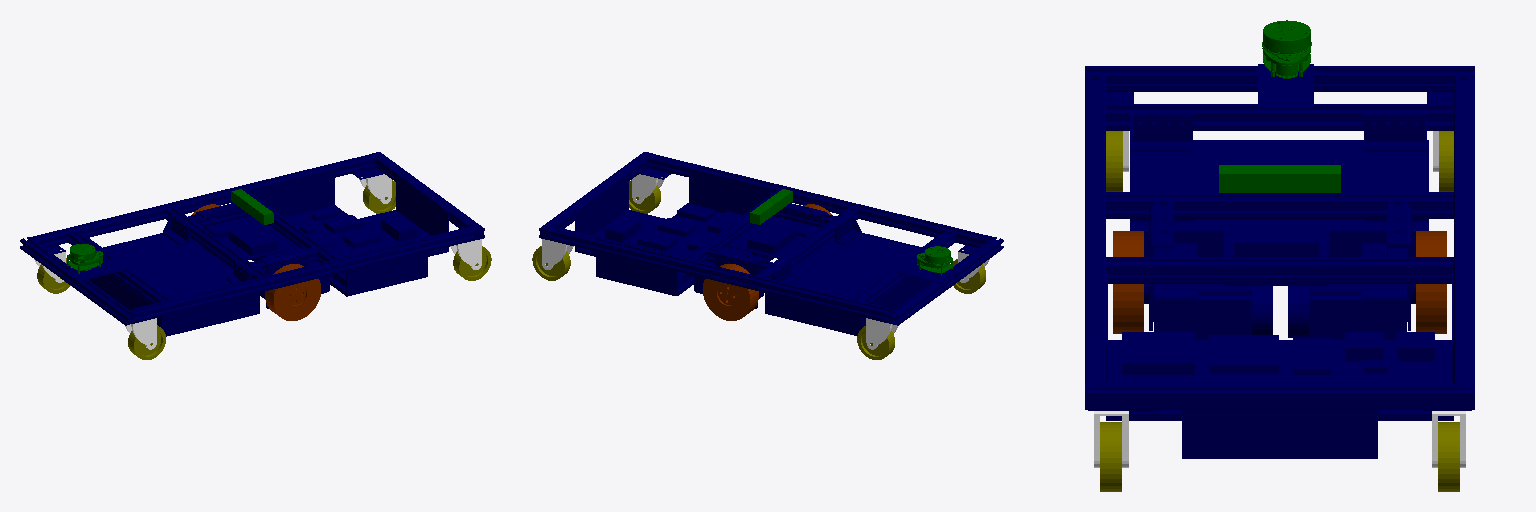
The robot description file, URDF, robot "amr_8":
<?xml version="1.0" encoding="utf-8"?>
<!-- This URDF was automatically created by SolidWorks to URDF Exporter! Originally created by Stephen Brawner ([email redacted]) 
     Commit Version: 1.6.0-1-g15f4949  Build Version: 1.6.7594.29634
     For more information, please see http://wiki.ros.org/sw_urdf_exporter -->
<robot
  name="amr_8">

  <!--===== Defining all colours here =====-->
  <material name="Orange">
    <color rgba="0.5 0.2 0.0 1" />
  </material>
  <material name="Yellow">
    <color rgba="0.5 0.5 0.0 1" />
  </material>
  <material name="Red">
    <color rgba="0.5 0.0 0.0 1" />
  </material>
  <material name="Blue">
    <color rgba="0.0 0.0 0.4 1" />
  </material>
  <material name="Green">
    <color rgba="0.0 0.4 0.0 1" />
  </material>
  <material name="White">
    <color rgba="1 1 1 1" />
  </material>

  <!--BASE FOOTPRINT-->
  <link name="base_footprint" />

  <link
    name="base">
    <inertial>
      <origin
        xyz="-0.064059 -0.0022909 -0.049505"
        rpy="0 0 0" />
      <mass
        value="19.525" />
      <inertia
        ixx="0.29993"
        ixy="-0.0014461"
        ixz="-0.00022725"
        iyy="0.22651"
        iyz="-0.00039565"
        izz="0.49465" />
    </inertial>
    <visual>
      <origin
        xyz="0 0 0"
        rpy="0 0 0" />
      <geometry>
        <mesh
          filename="package://amr_8/meshes/base.STL" />
      </geometry>
      <material
        name="Blue">
      </material>
    </visual>
    <collision>
      <origin
        xyz="0 0 0"
        rpy="0 0 0" />
      <geometry>
        <mesh
          filename="package://amr_8/meshes/base.STL" />
      </geometry>
    </collision>
  </link>

  <!--========================================== BASE JOINT ==========================================-->
  <joint name="base_joint" type="fixed">
    <origin xyz="0 0 0" rpy="0 0 0" />
    <parent link="base_footprint" />
    <child link="base" />
    <axis xyz="0 0 0" />
  </joint>

  <link
    name="casterhub1">
    <inertial>
      <origin
        xyz="0.021124 1.1393E-05 -0.037006"
        rpy="0 0 0" />
      <mass
        value="0.096702" />
      <inertia
        ixx="9.6191E-05"
        ixy="1.8378E-09"
        ixz="1.4686E-05"
        iyy="9.5049E-05"
        iyz="4.5372E-08"
        izz="7.6453E-05" />
    </inertial>
    <visual>
      <origin
        xyz="0 0 0"
        rpy="0 0 0" />
      <geometry>
        <mesh
          filename="package://amr_8/meshes/casterhub1.STL" />
      </geometry>
      <material
        name="White">
      </material>
    </visual>
    <collision>
      <origin
        xyz="0 0 0"
        rpy="0 0 0" />
      <geometry>
        <mesh
          filename="package://amr_8/meshes/casterhub1.STL" />
      </geometry>
    </collision>
  </link>
  <joint
    name="casterhub1joint"
    type="continuous">
    <origin
      xyz="0.50163 0.24239 0"
      rpy="0 0 0" />
    <parent
      link="base" />
    <child
      link="casterhub1" />
    <axis
      xyz="0 0 1" />
  </joint>
  <link
    name="casterwheel1">
    <inertial>
      <origin
        xyz="-6.8018E-10 1.0217E-13 -3.9451E-10"
        rpy="0 0 0" />
      <mass
        value="0.17494" />
      <inertia
        ixx="0.00013656"
        ixy="-1.5509E-28"
        ixz="-3.4686E-14"
        iyy="0.00025252"
        iyz="2.7903E-20"
        izz="0.00013656" />
    </inertial>
    <visual>
      <origin
        xyz="0 0 0"
        rpy="0 0 0" />
      <geometry>
        <mesh
          filename="package://amr_8/meshes/casterwheel1.STL" />
      </geometry>
      <material
        name="Yellow">
      </material>
    </visual>
    <collision>
      <origin
        xyz="0 0 0"
        rpy="0 0 0" />
      <geometry>
        <mesh
          filename="package://amr_8/meshes/casterwheel1.STL" />
      </geometry>
      
      <surface>
        <friction>
          <ode>
            <mu>1</mu>
            <mu2>1</mu2>
          </ode>
        </friction>
      </surface>
    
    </collision>
  </link>
  <joint
    name="casterwheel1joint"
    type="continuous">
    <origin
      xyz="0.037 0 -0.078"
      rpy="0 0 0" />
    <parent
      link="casterhub1" />
    <child
      link="casterwheel1" />
    <axis
      xyz="0 1 0" />
  </joint>
  <link
    name="casterhub2">
    <inertial>
      <origin
        xyz="0.021124 1.1393E-05 -0.037006"
        rpy="0 0 0" />
      <mass
        value="0.096702" />
      <inertia
        ixx="9.6191E-05"
        ixy="1.8378E-09"
        ixz="1.4686E-05"
        iyy="9.5049E-05"
        iyz="4.5372E-08"
        izz="7.6453E-05" />
    </inertial>
    <visual>
      <origin
        xyz="0 0 0"
        rpy="0 0 0" />
      <geometry>
        <mesh
          filename="package://amr_8/meshes/casterhub2.STL" />
      </geometry>
      <material
        name="White">
      </material>
    </visual>
    <collision>
      <origin
        xyz="0 0 0"
        rpy="0 0 0" />
      <geometry>
        <mesh
          filename="package://amr_8/meshes/casterhub2.STL" />
      </geometry>
    </collision>
  </link>
  <joint
    name="casterhub2joint"
    type="continuous">
    <origin
      xyz="-0.50172 0.24406 0"
      rpy="0 0 0" />
    <parent
      link="base" />
    <child
      link="casterhub2" />
    <axis
      xyz="0 0 1" />
  </joint>
  <link
    name="casterwheel2">
    <inertial>
      <origin
        xyz="-6.8013E-10 -5.5511E-17 -3.9253E-10"
        rpy="0 0 0" />
      <mass
        value="0.17494" />
      <inertia
        ixx="0.00013656"
        ixy="2.5266E-27"
        ixz="-3.4686E-14"
        iyy="0.00025252"
        iyz="2.7903E-20"
        izz="0.00013656" />
    </inertial>
    <visual>
      <origin
        xyz="0 0 0"
        rpy="0 0 0" />
      <geometry>
        <mesh
          filename="package://amr_8/meshes/casterwheel2.STL" />
      </geometry>
      <material
        name="Yellow">
      </material>
    </visual>
    <collision>
      <origin
        xyz="0 0 0"
        rpy="0 0 0" />
      <geometry>
        <mesh
          filename="package://amr_8/meshes/casterwheel2.STL" />
      </geometry>
      
      <surface>
        <friction>
          <ode>
            <mu>1</mu>
            <mu2>1</mu2>
          </ode>
        </friction>
      </surface>
    
    </collision>
  </link>
  <joint
    name="casterwheel2joint"
    type="continuous">
    <origin
      xyz="0.037 0 -0.078"
      rpy="0 0 0" />
    <parent
      link="casterhub2" />
    <child
      link="casterwheel2" />
    <axis
      xyz="0 1 0" />
  </joint>
  <link
    name="casterhub3">
    <inertial>
      <origin
        xyz="0.021124 1.1393E-05 -0.037006"
        rpy="0 0 0" />
      <mass
        value="0.096702" />
      <inertia
        ixx="9.6191E-05"
        ixy="1.8378E-09"
        ixz="1.4686E-05"
        iyy="9.5049E-05"
        iyz="4.5372E-08"
        izz="7.6453E-05" />
    </inertial>
    <visual>
      <origin
        xyz="0 0 0"
        rpy="0 0 0" />
      <geometry>
        <mesh
          filename="package://amr_8/meshes/casterhub3.STL" />
      </geometry>
      <material
        name="White">
      </material>
    </visual>
    <collision>
      <origin
        xyz="0 0 0"
        rpy="0 0 0" />
      <geometry>
        <mesh
          filename="package://amr_8/meshes/casterhub3.STL" />
      </geometry>
    </collision>
  </link>
  <joint
    name="casterhub3joint"
    type="continuous">
    <origin
      xyz="0.50163 -0.24209 0"
      rpy="0 0 0" />
    <parent
      link="base" />
    <child
      link="casterhub3" />
    <axis
      xyz="0 0 1" />
  </joint>
  <link
    name="casterwheel3">
    <inertial>
      <origin
        xyz="-6.8013E-10 5.5511E-17 -3.9258E-10"
        rpy="0 0 0" />
      <mass
        value="0.17494" />
      <inertia
        ixx="0.00013656"
        ixy="-2.0304E-25"
        ixz="-3.4686E-14"
        iyy="0.00025252"
        iyz="2.6103E-20"
        izz="0.00013656" />
    </inertial>
    <visual>
      <origin
        xyz="0 0 0"
        rpy="0 0 0" />
      <geometry>
        <mesh
          filename="package://amr_8/meshes/casterwheel3.STL" />
      </geometry>
      <material
        name="Yellow">
      </material>
    </visual>
    <collision>
      <origin
        xyz="0 0 0"
        rpy="0 0 0" />
      <geometry>
        <mesh
          filename="package://amr_8/meshes/casterwheel3.STL" />
      </geometry>
      
      <surface>
        <friction>
          <ode>
            <mu>1</mu>
            <mu2>1</mu2>
          </ode>
        </friction>
      </surface>
    
    </collision>
  </link>
  <joint
    name="casterwheel3joint"
    type="continuous">
    <origin
      xyz="0.037 0 -0.078"
      rpy="0 0 0" />
    <parent
      link="casterhub3" />
    <child
      link="casterwheel3" />
    <axis
      xyz="0 1 0" />
  </joint>
  <link
    name="casterhub4">
    <inertial>
      <origin
        xyz="0.021124 1.1393E-05 -0.037006"
        rpy="0 0 0" />
      <mass
        value="0.096702" />
      <inertia
        ixx="9.6191E-05"
        ixy="1.8378E-09"
        ixz="1.4686E-05"
        iyy="9.5049E-05"
        iyz="4.5372E-08"
        izz="7.6453E-05" />
    </inertial>
    <visual>
      <origin
        xyz="0 0 0"
        rpy="0 0 0" />
      <geometry>
        <mesh
          filename="package://amr_8/meshes/casterhub4.STL" />
      </geometry>
      <material
        name="White">
      </material>
    </visual>
    <collision>
      <origin
        xyz="0 0 0"
        rpy="0 0 0" />
      <geometry>
        <mesh
          filename="package://amr_8/meshes/casterhub4.STL" />
      </geometry>
    </collision>
  </link>
  <joint
    name="casterhub4joint"
    type="continuous">
    <origin
      xyz="-0.50233 -0.2419 0"
      rpy="0 0 0" />
    <parent
      link="base" />
    <child
      link="casterhub4" />
    <axis
      xyz="0 0 1" />
  </joint>
  <link
    name="casterwheel4">
    <inertial>
      <origin
        xyz="-6.8013E-10 -2.7756E-17 -3.9256E-10"
        rpy="0 0 0" />
      <mass
        value="0.17494" />
      <inertia
        ixx="0.00013656"
        ixy="-1.6203E-28"
        ixz="-3.4686E-14"
        iyy="0.00025252"
        iyz="2.7903E-20"
        izz="0.00013656" />
    </inertial>
    <visual>
      <origin
        xyz="0 0 0"
        rpy="0 0 0" />
      <geometry>
        <mesh
          filename="package://amr_8/meshes/casterwheel4.STL" />
      </geometry>
      <material
        name="Yellow">
      </material>
    </visual>
    <collision>
      <origin
        xyz="0 0 0"
        rpy="0 0 0" />
      <geometry>
        <mesh
          filename="package://amr_8/meshes/casterwheel4.STL" />
      </geometry>
      
      <surface>
        <friction>
          <ode>
            <mu>1</mu>
            <mu2>1</mu2>
          </ode>
        </friction>
      </surface>
    
    </collision>
  </link>
  <joint
    name="casterwheel4joint"
    type="continuous">
    <origin
      xyz="0.037 0 -0.078"
      rpy="0 0 0" />
    <parent
      link="casterhub4" />
    <child
      link="casterwheel4" />
    <axis
      xyz="0 1 0" />
  </joint>



  <link
    name="left_drive_wheel">
    <inertial>
      <origin
        xyz="3.724E-08 -0.02302 -6.1415E-08"
        rpy="0 0 0" />
      <mass
        value="0.70556" />
      <inertia
        ixx="0.0011582"
        ixy="4.4879E-10"
        ixz="1.1745E-10"
        iyy="0.002089"
        iyz="-7.4013E-10"
        izz="0.0011582" />
    </inertial>
    <visual>
      <origin
        xyz="0 0 0"
        rpy="0 0 0" />
      <geometry>
        <mesh
          filename="package://amr_8/meshes/left_drive_wheel.STL" />
      </geometry>
      <material
        name="Orange">
      </material>
    </visual>
    <collision>
      <origin
        xyz="0 0 0"
        rpy="0 0 0" />
      <geometry>
        <mesh
          filename="package://amr_8/meshes/left_drive_wheel.STL" />
      </geometry>
      
      <surface>
        <friction>
          <ode>
            <mu>1</mu>
            <mu2>1</mu2>
          </ode>
        </friction>
      </surface>
    
    </collision>
  </link>


  <joint
    name="left_drive_wheel_joint"
    type="continuous">
    <origin
      xyz="-0.00021568 -0.195 -0.0539"
      rpy="0 0 0" />
    <!--origin
      xyz="-0.00021568 -0.195 -0.053698"
      rpy="0 0 0" /-->
    <parent
      link="base" />
    <child
      link="left_drive_wheel" />
    <axis
      xyz="0 -1 0" />
  </joint>


  <link
    name="right_drive_wheel">
    <inertial>
      <origin
        xyz="3.724E-08 0.02302 6.1415E-08"
        rpy="0 0 0" />
      <mass
        value="0.70556" />
      <inertia
        ixx="0.0011582"
        ixy="-4.4879E-10"
        ixz="-1.1745E-10"
        iyy="0.002089"
        iyz="-7.4013E-10"
        izz="0.0011582" />
    </inertial>
    <visual>
      <origin
        xyz="0 0 0"
        rpy="0 0 0" />
      <geometry>
        <mesh
          filename="package://amr_8/meshes/right_drive_wheel.STL" />
      </geometry>
      <material
        name="Orange">
      </material>
    </visual>
    <collision>
      <origin
        xyz="0 0 0"
        rpy="0 0 0" />
      <geometry>
        <mesh
          filename="package://amr_8/meshes/right_drive_wheel.STL" />
      </geometry>
      
      <surface>
        <friction>
          <ode>
            <mu>1</mu>
            <mu2>1</mu2>
          </ode>
        </friction>
      </surface>
    
    </collision>
  </link>


  <joint
    name="right_drive_wheel_joint"
    type="continuous">
    <origin
      xyz="-0.00021568 0.195 -0.0539"
      rpy="0 0 0" />
    <!--origin
      xyz="-0.00021568 0.195 -0.053698"
      rpy="0 0 0" /-->
    <parent
      link="base" />
    <child
      link="right_drive_wheel" />
    <axis
      xyz="0 -1 0" />
  </joint>



  <link
    name="lidar">
    <inertial>
      <origin
        xyz="-0.02994 0.019468 0.024735"
        rpy="0 0 0" />
      <mass
        value="0.073085" />
      <inertia
        ixx="1.9581E-05"
        ixy="-1.0393E-07"
        ixz="-4.2839E-07"
        iyy="2.4125E-05"
        iyz="9.4271E-09"
        izz="4.1418E-05" />
    </inertial>
    <visual>
      <origin
        xyz="0 -0.02 0"
        rpy="0 0 0" />
      <geometry>
        <mesh
          filename="package://amr_8/meshes/lidar.STL" />
      </geometry>
      <material
        name="Green">
      </material>
    </visual>
    <collision>
      <origin
        xyz="0 0 0"
        rpy="0 0 0" />
      <geometry>
        <mesh
          filename="package://amr_8/meshes/lidar.STL" />
      </geometry>
    </collision>
  </link>
  <joint
    name="lidarjoint"
    type="fixed">
    <origin
      xyz="-0.47725 0.01 0.05"
      rpy="0 0 0" />
    <!--origin
      xyz="-0.47725 -0.011631 0.034"
      rpy="0 0 0" /-->
    <parent
      link="base" />
    <child
      link="lidar" />
    <axis
      xyz="0 0 0" />
  </joint>

        <!-- Camera Center -->
        <joint name="zed_camera_center_joint" type="fixed">
	  <origin
	    xyz="0 0 0.11"
	    rpy="0 0 3.14" />
            <parent link="base"/>
            <child link="zed_camera_center"/>
        </joint>

        <link name="zed_camera_center">
            <visual>
                <origin xyz="0 0 0" rpy="0 0 1.57"/>
                <geometry>
                    <!--mesh filename="file://$(find sd_truck_description)/meshes/zed2.stl"/-->
                    <box size="0.175 0.030 0.030"/>
                </geometry>
                <material name="Green" />
            </visual>
            <collision>
                <origin xyz="0 0 0" rpy="0 0 0"/>
                <geometry>
                    <!--mesh filename="file://$(find sd_truck_description)/meshes/zed2.stl"/-->
                    <box size="0.0175 0.0030 0.0030"/>
                </geometry>
            </collision>
            <inertial>
                <mass value="1e-5" />
                <origin xyz="0 0 0" rpy="0 0 0"/>
                <inertia ixx="1e-6" ixy="0" ixz="0" iyy="1e-6" iyz="0" izz="1e-6" />
            </inertial>
        </link>

    <!-- Left Camera -->
        <joint name="zed_left_camera_joint" type="fixed">
            <parent link="zed_camera_center"/>
            <child link="zed_left_camera_frame"/>
            <origin xyz="0 0.06 0" rpy="0 0 0" />
        </joint>

        <link name="zed_left_camera_frame" />

        <joint name="zed_left_camera_optical_joint" type="fixed">
            <origin xyz="0 0 0" rpy="0 0 0" />
            <parent link="zed_left_camera_frame" />
            <child link="zed_left_camera_link_optical" />
        </joint>
        <link name="zed_left_camera_link_optical" />

    <!-- Right Camera -->
        <joint name="zed_right_camera_joint" type="fixed">
            <parent link="zed_camera_center"/>
            <child link="zed_right_camera_frame"/>
            <origin xyz="0 -0.06 0" rpy="0 0 0" />
        </joint>

        <link name="zed_right_camera_frame" />

        <joint name="zed_right_camera_optical_joint" type="fixed">
            <origin xyz="0 0 0" rpy="0 0 0" />
            <parent link="zed_right_camera_frame" />
            <child link="zed_right_camera_link_optical" />
        </joint>

        <link name="zed_right_camera_link_optical" />








  <!--========================================== GAZEBO TAGS ==========================================-->
  <gazebo reference="base">
    <material>Gazebo/Blue</material>
  </gazebo>

  <gazebo reference="left_drive_wheel">
    <material>Gazebo/Orange</material>
  </gazebo>

  <gazebo reference="right_drive_wheel">
    <material>Gazebo/Orange</material>
  </gazebo>

  <gazebo reference="casterwheel1">
    <material>Gazebo/Yellow</material>
  </gazebo>

  <gazebo reference="casterwheel2">
    <material>Gazebo/Yellow</material>
  </gazebo>

  <gazebo reference="casterwheel3">
    <material>Gazebo/Yellow</material>
  </gazebo>
  
  <gazebo reference="casterwheel4">
    <material>Gazebo/Yellow</material>
  </gazebo>

  <gazebo reference="lidar">
    <material>Gazebo/Green</material>
  </gazebo>

  <gazebo reference="zed_camera_center">
    <material>Gazebo/Green</material>
  </gazebo>


  <!--========================================== DIFF DRIVE PLUGIN - GAZEBO ==========================================-->

	<gazebo>
	  <plugin name="differential_drive_controller" filename="libgazebo_ros_diff_drive.so">
		<!-- Plugin update rate in Hz -->
		<updateRate>10</updateRate>
		<!-- Name of left joint, defaults to `left_joint` -->
		<leftJoint>left_drive_wheel_joint</leftJoint>
		<!-- Name of right joint, defaults to `right_joint` -->
		<rightJoint>right_drive_wheel_joint</rightJoint>
		<!-- The distance from the center of one wheel to the other, in meters, defaults to 0.34 m -->
		<wheelSeparation>0.421</wheelSeparation>
		<!-- Diameter of the wheels, in meters, defaults to 0.15 m -->
		<wheelDiameter>0.15</wheelDiameter>
		<!-- Wheel acceleration, in rad/s^2, defaults to 0.0 rad/s^2 -->
		<wheelAcceleration>0.75</wheelAcceleration>
		<!-- Maximum torque which the wheels can produce, in Nm, defaults to 5 Nm -->
		<wheelTorque>500</wheelTorque>
		<!-- Topic to receive geometry_msgs/Twist message commands, defaults to `cmd_vel` -->
		<commandTopic>cmd_vel</commandTopic>
		<!-- Topic to publish nav_msgs/Odometry messages, defaults to `odom` -->
		<odometryTopic>odom_gazebo</odometryTopic>
		<!-- Odometry frame, defaults to `odom` -->
		<odometryFrame>odom_gazebo</odometryFrame>
		<!-- Robot frame to calculate odometry from, defaults to `base_footprint` -->
		<robotBaseFrame>base_footprint</robotBaseFrame>
		<!-- Odometry source, 0 for ENCODER, 1 for WORLD, defaults to WORLD -->
		<odometrySource>1</odometrySource>
		<!-- Set to true to publish transforms for the wheel links, defaults to false -->
		<publishWheelTF>false</publishWheelTF>
		<!-- Set to true to publish transforms for the odometry, defaults to true -->
		<publishOdom>false</publishOdom>
		<publishOdomTF>false</publishOdomTF>
		<publishTF>false</publishTF>
		<!-- Set to true to publish sensor_msgs/JointState on /joint_states for the wheel joints, defaults to false -->
		<publishWheelJointState>false</publishWheelJointState>
		<!-- Set to true to swap right and left wheels, defaults to true -->
		<legacyMode>false</legacyMode>
	  </plugin>
	</gazebo>


  <!--========================================== LIDAR PLUGIN - GAZEBO ==========================================-->
  <!--Sample size of 4000 (original value of RPLidarA1M8) gives an error-->
  <gazebo reference="lidar">
      <sensor type="gpu_ray" name="laser">
      <!--sensor type="ray" name="laser"-->
          <pose>0 0 0 0 0 0</pose>
          <visualize>true</visualize>
          <update_rate>40</update_rate>
          <ray>
              <scan>
                  <horizontal>
                      <samples>720</samples>
                      <resolution>1</resolution>
                      <min_angle>0</min_angle>
                      <max_angle>6.28</max_angle>
                  </horizontal>
              </scan>
              <range>
                  <min>0.1</min>
                  <max>6</max>
                  <resolution>0.1</resolution>
              </range>
          </ray>
          <plugin name="gpu_laser" filename="libgazebo_ros_gpu_laser.so">
              <topicName>/scan</topicName>
              <frameName>lidar</frameName>
          </plugin>
      </sensor>
  </gazebo>

  <!--========================================== STEREO CAMERA PLUGIN - GAZEBO ==========================================-->
        <gazebo reference="zed_left_camera_link_optical">
            <sensor type="multicamera" name="zed_camera">
            <update_rate>10.0</update_rate>
            <!--update_rate>30.0</update_rate-->
            <camera name="left">
                <horizontal_fov>1.919862177</horizontal_fov>
                <image>
                    <width>672</width>
                    <height>376</height>
                    <format>R8G8B8</format>
                </image>
                <clip>
                    <near>0.02</near>
                    <far>300</far>
                </clip>
                <noise>
                    <type>gaussian</type>
                    <mean>0.0</mean>
                    <stddev>0.007</stddev>
                </noise>
            </camera>
            <camera name="right">
                <horizontal_fov>1.919862177</horizontal_fov>
                <image>
                    <width>672</width>
                    <height>376</height>
                    <format>R8G8B8</format>
                </image>
                <clip>
                    <near>0.02</near>
                    <far>300</far>
                </clip>
                <noise>
                    <type>gaussian</type>
                    <mean>0.0</mean>
                    <stddev>0.007</stddev>
                </noise>
            </camera>
            <plugin name="zed_camera_controller" filename="libgazebo_ros_multicamera.so">
                <alwaysOn>true</alwaysOn>
                <updateRate>0.0</updateRate>
                <cameraName>sd_truck/zed_camera</cameraName>
                <imageTopicName>image_raw</imageTopicName>
                <cameraInfoTopicName>camera_info</cameraInfoTopicName>
                <frameName>zed_left_camera_link_optical</frameName>
                <rightFrameName>zed_right_camera_link_optical</rightFrameName>
                <hackBaseline>0.07</hackBaseline>
                <distortionK1>0.0</distortionK1>
                <distortionK2>0.0</distortionK2>
                <distortionK3>0.0</distortionK3>
                <distortionT1>0.0</distortionT1>
                <distortionT2>0.0</distortionT2>
            </plugin>
            </sensor>
        </gazebo>


</robot>

--- Render facts (derived) ---
The picture shows the robot from 3 angles, left to right: view 1: azimuth 30°, elevation 25°; view 2: azimuth 150°, elevation 25°; view 3: azimuth 270°, elevation 25°; orthographic projection.
Robot: amr_8 — 18 links, 17 joints (10 continuous, 7 fixed); root link base_footprint; default pose: all joints at 0.
Links seen in each view (by area): view 1: base, left_drive_wheel, lidar, zed_camera_center, casterwheel3, casterwheel4, casterhub4, casterhub3, casterhub1, casterwheel1; view 2: base, right_drive_wheel, lidar, zed_camera_center, casterwheel1, casterwheel2, casterhub2, casterhub1, casterhub3; view 3: base, zed_camera_center, lidar, right_drive_wheel, left_drive_wheel, casterwheel1, casterwheel3, casterwheel4, casterwheel2, casterhub3, casterhub1.
Boxes of the visible links, x1,y1,x2,y2 form: base: (20, 152, 484, 336); left_drive_wheel: (265, 264, 320, 320); lidar: (67, 244, 103, 273); zed_camera_center: (231, 189, 273, 224); casterwheel3: (453, 246, 491, 280); casterwheel4: (128, 325, 165, 359); casterhub4: (125, 318, 156, 349); casterhub3: (450, 239, 481, 269); casterhub1: (359, 174, 391, 203); casterwheel1: (363, 180, 395, 213); base: (539, 152, 1003, 335); right_drive_wheel: (703, 264, 758, 320); lidar: (917, 246, 952, 275); zed_camera_center: (750, 189, 792, 224); casterwheel1: (532, 246, 570, 280); casterwheel2: (857, 326, 894, 359); casterhub2: (866, 318, 897, 349); casterhub1: (542, 239, 573, 269); casterhub3: (632, 174, 664, 203); base: (1085, 64, 1474, 458); zed_camera_center: (1219, 165, 1340, 192); lidar: (1262, 20, 1311, 78); right_drive_wheel: (1416, 231, 1446, 333); left_drive_wheel: (1113, 231, 1143, 333); casterwheel1: (1438, 422, 1459, 491); casterwheel3: (1100, 422, 1121, 491); casterwheel4: (1106, 131, 1122, 191); casterwheel2: (1439, 131, 1453, 191); casterhub3: (1094, 411, 1128, 467); casterhub1: (1432, 411, 1465, 467).
Bounding box of the posed robot: 1.14 × 0.56 × 0.253 m (x, y, z).
Meshes: 12 distinct files referenced, 12 mesh visuals loaded (12 binary STL).
